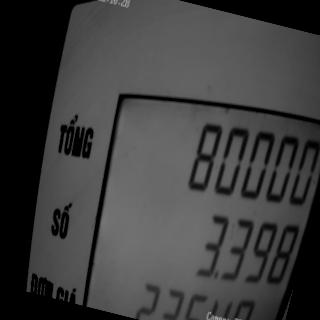screen: (58, 63, 320, 320)
